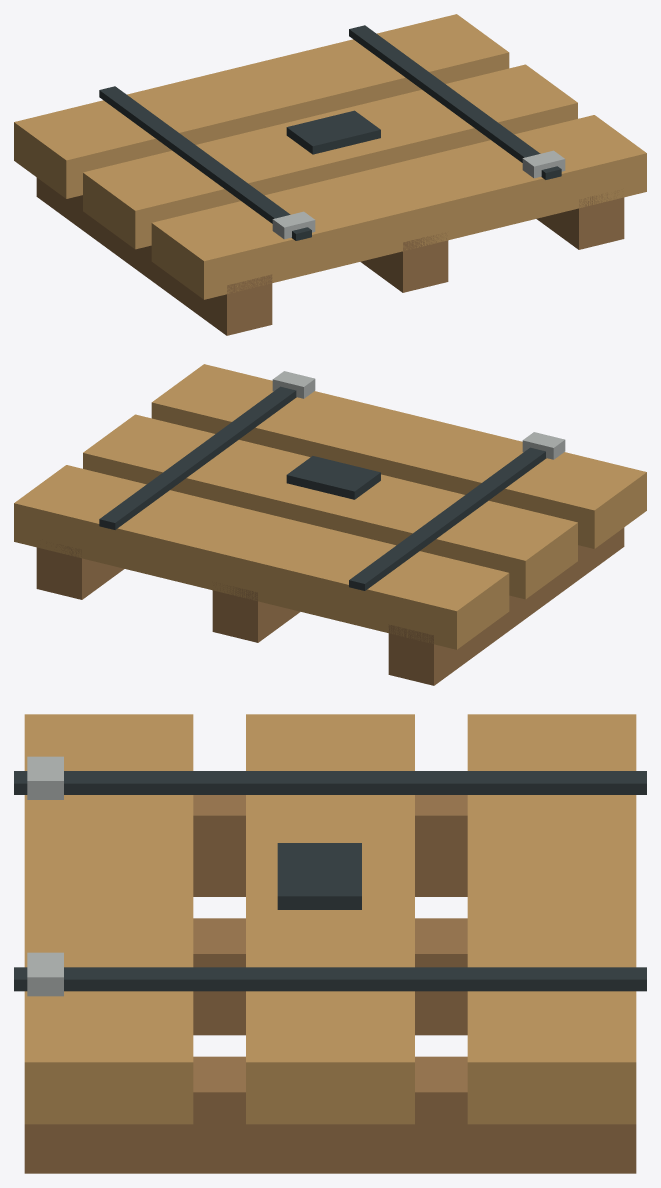
Rendered from cargo_pallet.glb.
The picture shows the model from 3 angles, top to bottom: view 1: azimuth 30°, elevation 25°; view 2: azimuth 150°, elevation 25°; view 3: azimuth 270°, elevation 25°; orthographic projection. The views are drawn at different scales.
Visible parts, largest first — view 1: pallet_deck_0, pallet_deck_2, pallet_deck_1, pallet_runner_0, pallet_tiedown_1, pallet_tiedown_0, pallet_runner_1, pallet_runner_2, pallet_center_plate, pallet_tiedown_hook_1, pallet_tiedown_hook_0; view 2: pallet_deck_2, pallet_deck_0, pallet_deck_1, pallet_runner_0, pallet_tiedown_1, pallet_tiedown_0, pallet_runner_1, pallet_runner_2, pallet_center_plate, pallet_tiedown_hook_1, pallet_tiedown_hook_0; view 3: pallet_deck_2, pallet_deck_0, pallet_deck_1, pallet_runner_2, pallet_tiedown_1, pallet_tiedown_0, pallet_runner_0, pallet_runner_1, pallet_center_plate, pallet_tiedown_hook_1, pallet_tiedown_hook_0.
Boxes of the visible parts, x1,y1,x2,y2 form: pallet_deck_0: (151, 115, 646, 299); pallet_deck_2: (14, 14, 509, 198); pallet_deck_1: (83, 64, 577, 249); pallet_runner_0: (36, 177, 272, 335); pallet_tiedown_1: (349, 25, 561, 179); pallet_tiedown_0: (99, 86, 311, 240); pallet_runner_1: (360, 232, 448, 292); pallet_runner_2: (536, 190, 624, 249); pallet_center_plate: (286, 110, 380, 154); pallet_tiedown_hook_1: (522, 150, 565, 178); pallet_tiedown_hook_0: (272, 211, 315, 239); pallet_deck_2: (14, 465, 509, 649); pallet_deck_0: (151, 364, 646, 548); pallet_deck_1: (83, 414, 577, 599); pallet_runner_0: (388, 527, 624, 685); pallet_tiedown_1: (99, 386, 296, 529); pallet_tiedown_0: (349, 447, 546, 590); pallet_runner_1: (212, 582, 300, 642); pallet_runner_2: (36, 543, 124, 599); pallet_center_plate: (286, 456, 380, 499); pallet_tiedown_hook_1: (272, 371, 315, 398); pallet_tiedown_hook_0: (522, 432, 565, 459); pallet_deck_2: (467, 714, 636, 1124); pallet_deck_0: (24, 714, 193, 1124); pallet_deck_1: (246, 714, 414, 1124); pallet_runner_2: (24, 1056, 636, 1173); pallet_tiedown_1: (14, 967, 646, 991); pallet_tiedown_0: (14, 771, 646, 794); pallet_runner_0: (193, 795, 467, 896); pallet_runner_1: (193, 918, 467, 1035); pallet_center_plate: (277, 843, 361, 909); pallet_tiedown_hook_1: (27, 952, 63, 996); pallet_tiedown_hook_0: (27, 756, 63, 799).
Bounding box in the file's own units: 0.78 × 0.1575 × 0.6.
